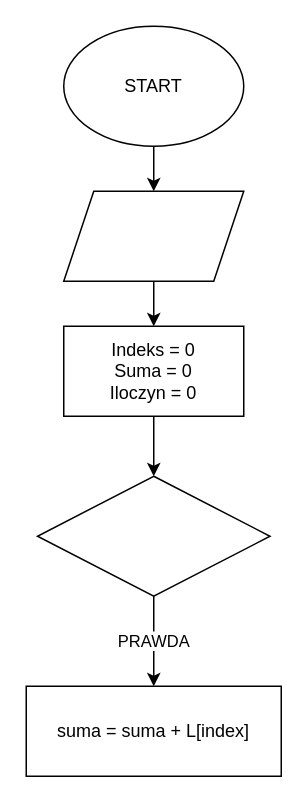
The diagram is 308 pixels wide and 803 high, and some of its shapes have lost their labels. Here are the shapes that lost their labels. From the top down, the centre of each, then its label:
[153,235]: Pobierz listę "L"
[153,535]: index < len(L)
